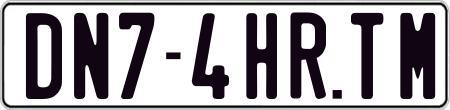4: (190, 11, 230, 99)
7: (117, 11, 153, 103)
D: (24, 12, 61, 98)
H: (245, 12, 280, 100)
M: (397, 10, 432, 98)
N: (71, 12, 106, 103)
R: (289, 11, 327, 99)
T: (350, 12, 388, 100)
